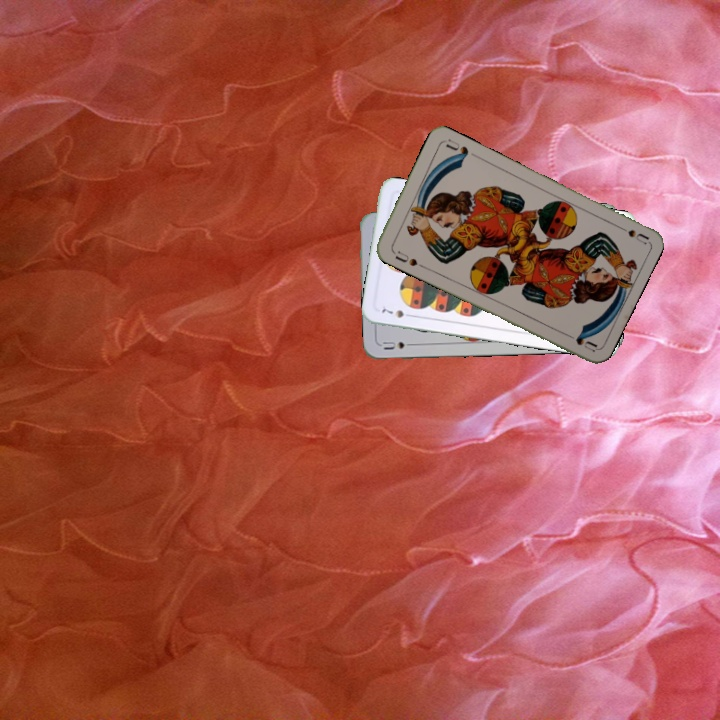S7: (378, 304, 416, 320)
SU: (611, 220, 650, 247), (391, 247, 420, 269), (378, 337, 418, 352)
